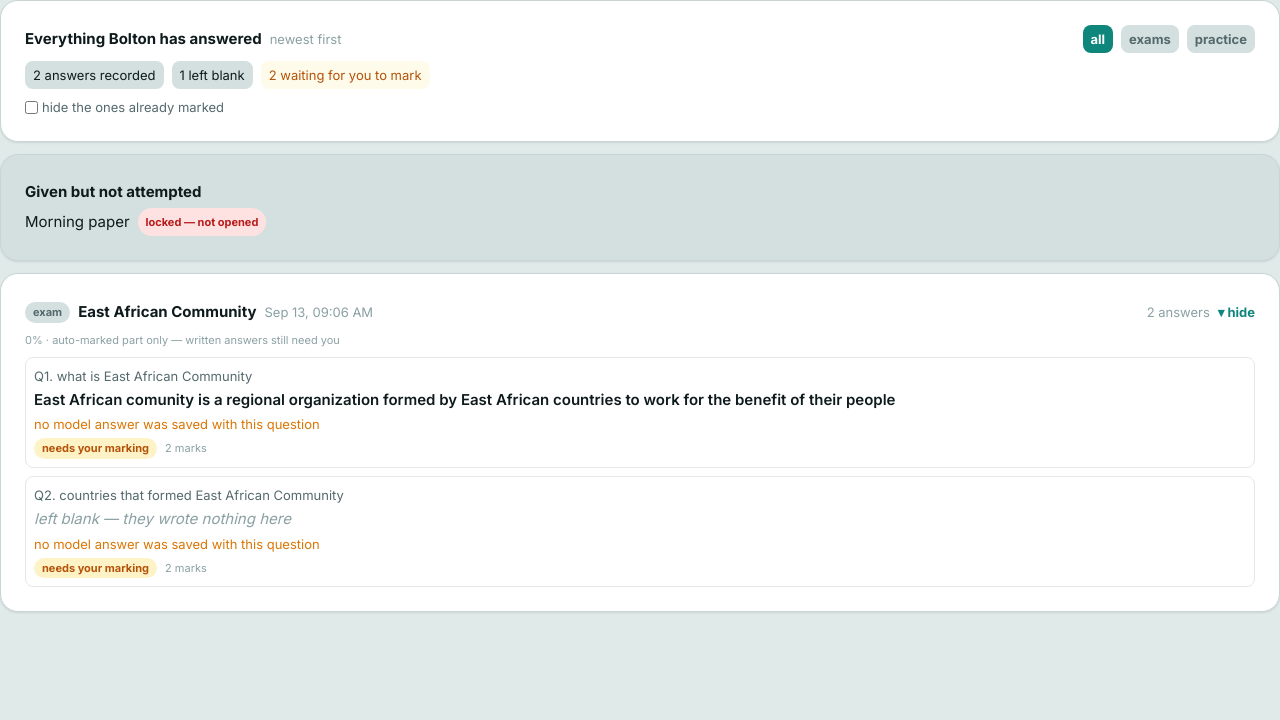
Scenario: StudentAnswers › filters to practice, where there is nothing, and says why
This screenshot has width=1280, height=720.
Check: the text "Everything Bolton has answered" is shown, box [25, 27, 262, 51]
Click the button "practice". click: {"x": 1221, "y": 39}
box: [1187, 25, 1255, 53]
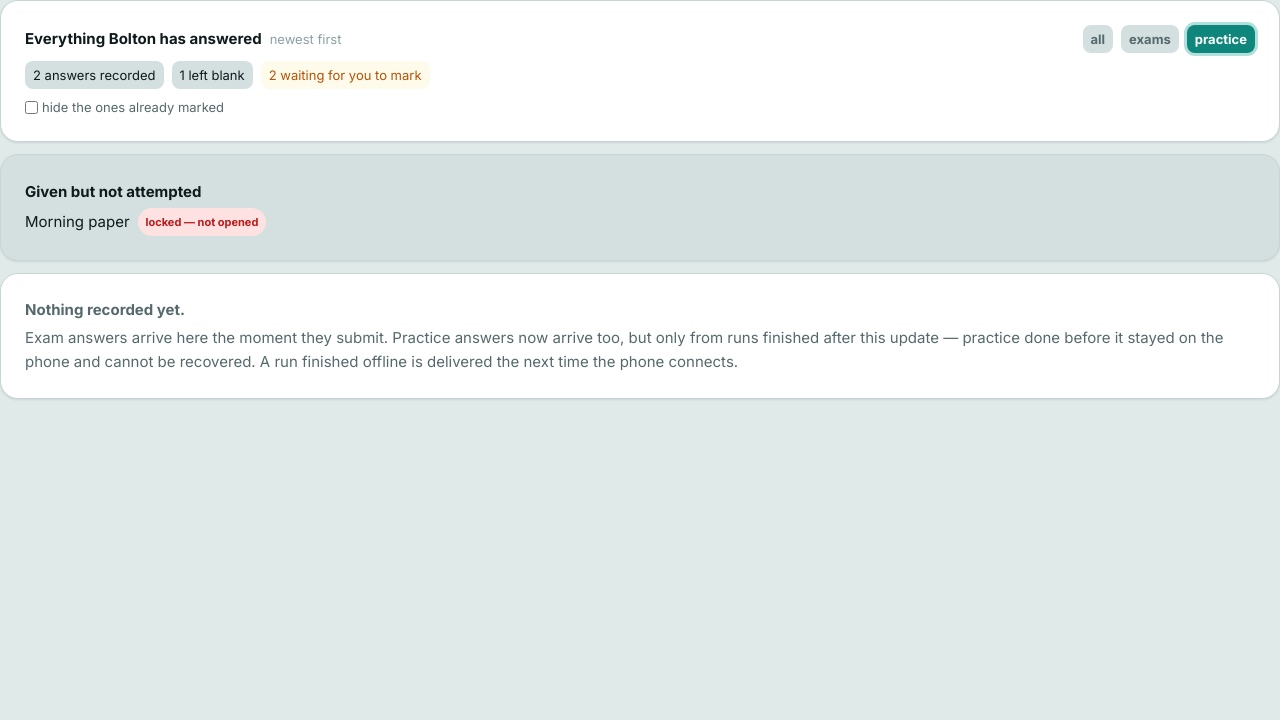
Check: the text "Nothing recorded yet." is shown, box [25, 300, 185, 319]
